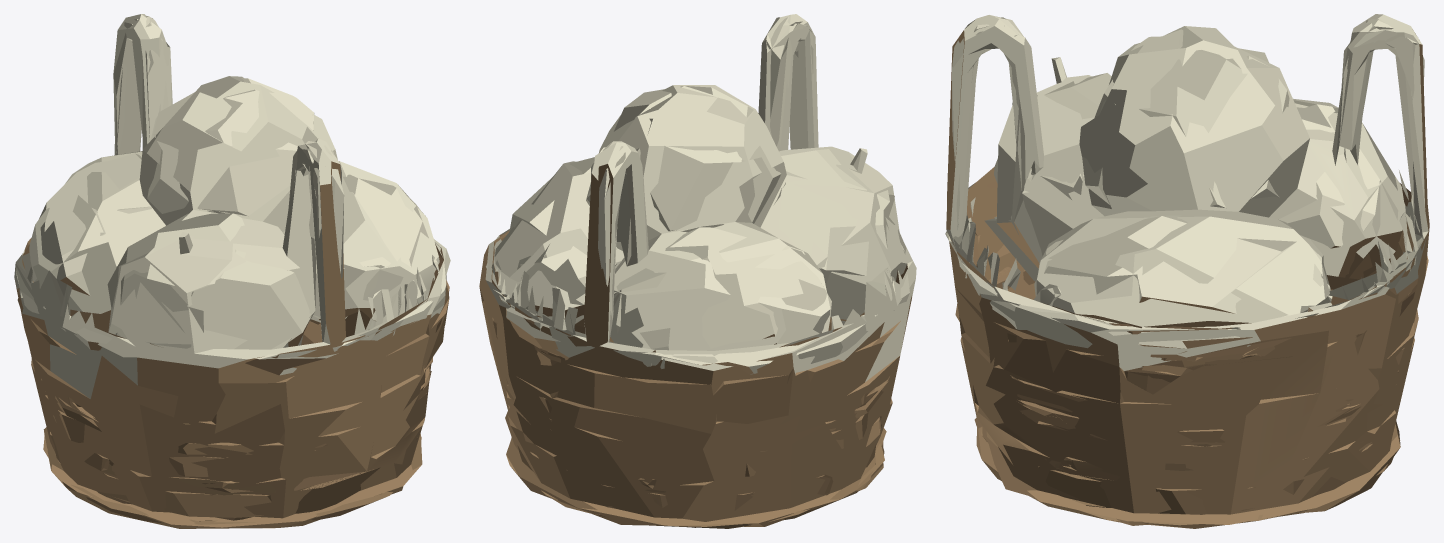
Rendered from ENV_09_WOOL_game.glb.
3 renders of one model, left to right at view 1: azimuth 30°, elevation 25°; view 2: azimuth 150°, elevation 25°; view 3: azimuth 270°, elevation 25°, orthographic. The views are drawn at different scales.
Parts seen in each view (by area): view 1: ENV_09_WOOL; view 2: ENV_09_WOOL; view 3: ENV_09_WOOL.
Part boxes in pixels (x1,y1,x2,y2): ENV_09_WOOL: [14, 14, 450, 528]; ENV_09_WOOL: [479, 14, 916, 528]; ENV_09_WOOL: [945, 14, 1429, 528].
Size of the model in its own units: 0.7183 by 0.7 by 0.7122.
